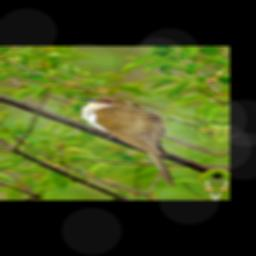Cuckoo: (69, 96, 186, 187)
